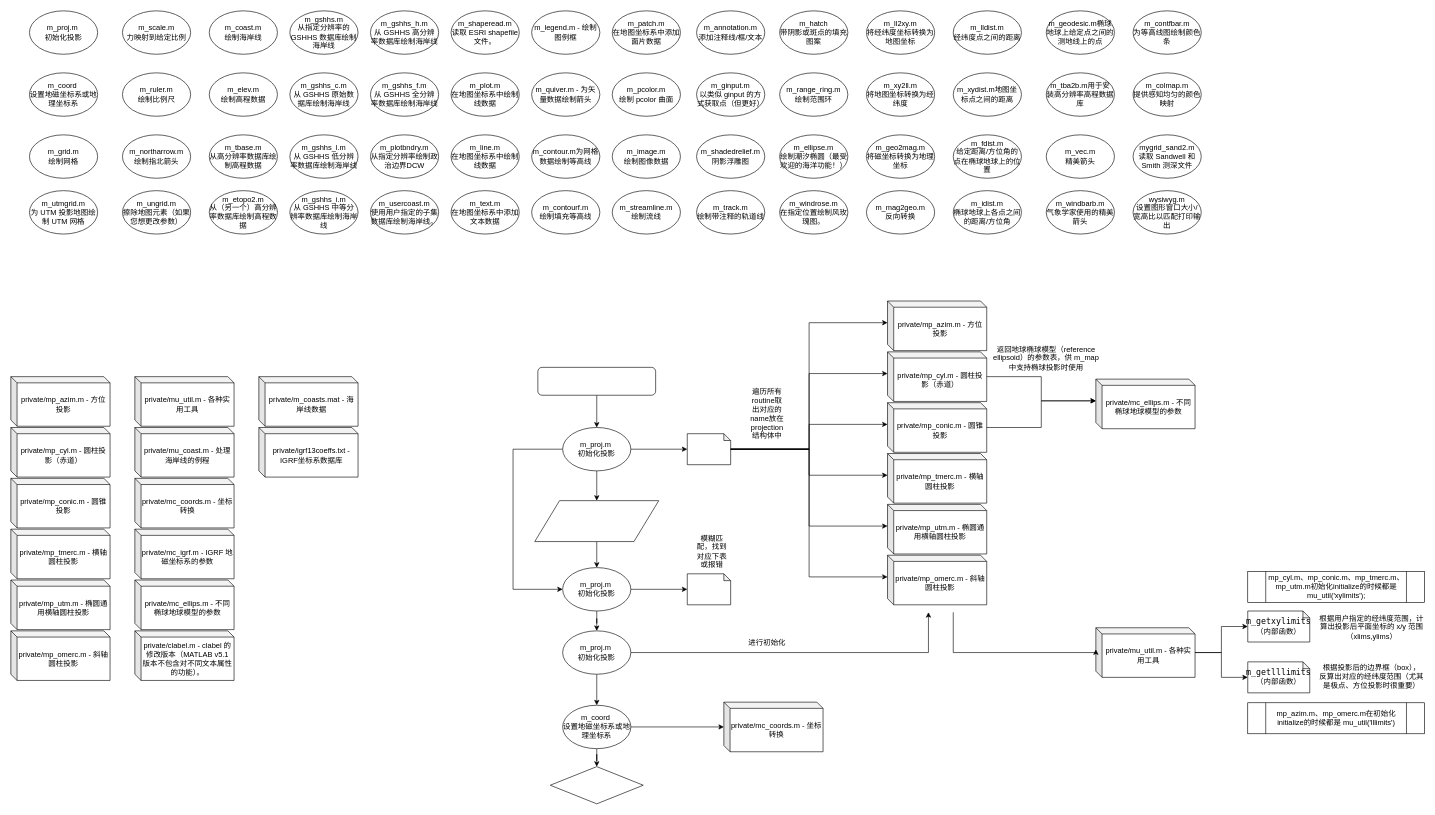
Image size: 1435x815. Some labels were removed from this diagram. Here are the shapes that lost their labels. From the top down, the centre of each, then its label:
At pixel 596 381: "projection()".
At pixel 709 449: "m_getproj （内部函数）".
At pixel 596 521: "可能分支： get set usage".
At pixel 709 589: "m_match （内部函数）".
At pixel 596 785: "结束".
